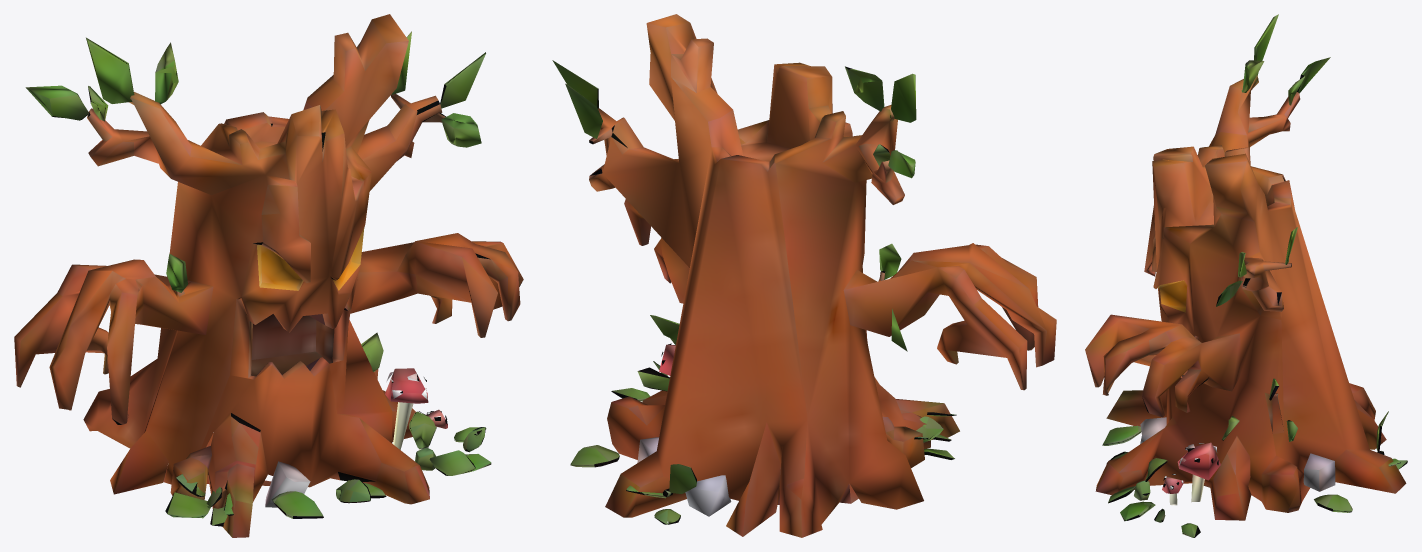
Rendered from kit-monster-plant.lod.glb.
3 renders of one model, left to right at view 1: azimuth 30°, elevation 25°; view 2: azimuth 150°, elevation 25°; view 3: azimuth 270°, elevation 25°, orthographic. The views are drawn at different scales.
Parts seen in each view (by area): view 1: WBA_Creature_MonsterPlant_01_WBA_MAT_Halloween_Atlas_0.001; view 2: WBA_Creature_MonsterPlant_01_WBA_MAT_Halloween_Atlas_0.001; view 3: WBA_Creature_MonsterPlant_01_WBA_MAT_Halloween_Atlas_0.001.
Boxes of the visible parts, x1,y1,x2,y2 form: WBA_Creature_MonsterPlant_01_WBA_MAT_Halloween_Atlas_0.001: [14, 14, 523, 537]; WBA_Creature_MonsterPlant_01_WBA_MAT_Halloween_Atlas_0.001: [552, 14, 1056, 537]; WBA_Creature_MonsterPlant_01_WBA_MAT_Halloween_Atlas_0.001: [1085, 14, 1407, 537].
Bounding box in the file's own units: 4.4 × 3.96 × 3.04.
1 material, 1 textured.
